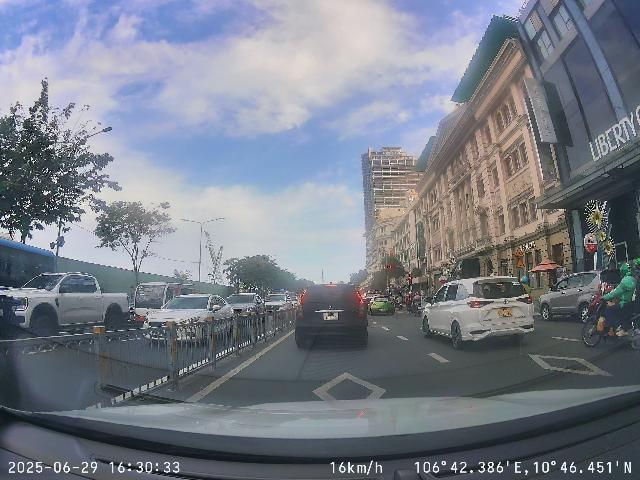221-duong-go-ghe: (516, 258, 525, 268)
224-duong-nguoi-di-bo-cat-ngang: (515, 247, 524, 257)
